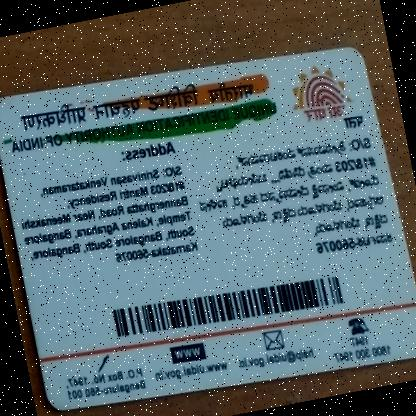aadhaar_card: (0, 39, 415, 415)
